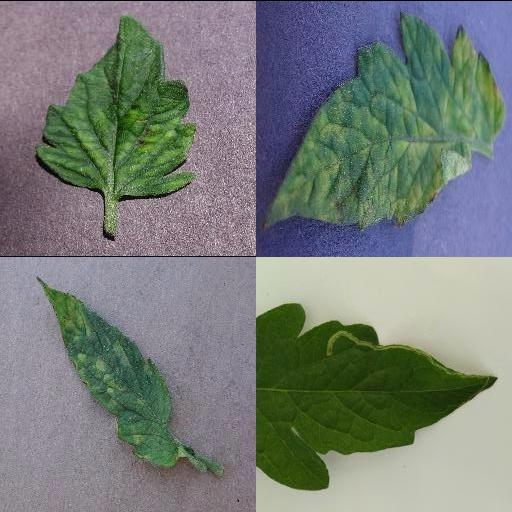Leaf Miner: (256, 302, 500, 490)
Leaf Mold: (261, 11, 505, 227), (42, 284, 180, 465)
Mosaic Virus: (34, 12, 198, 198)
